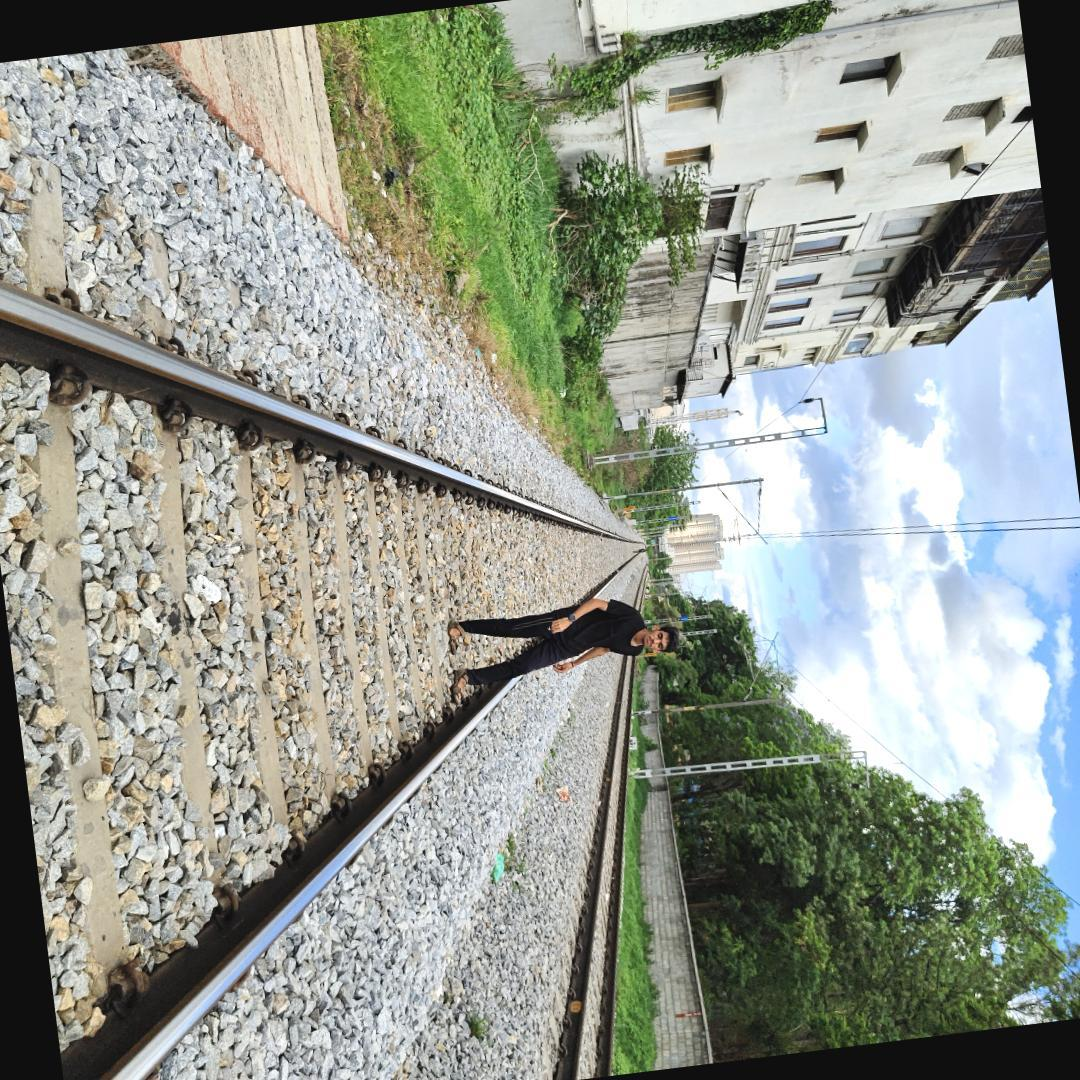standing: (418, 576, 689, 706)
